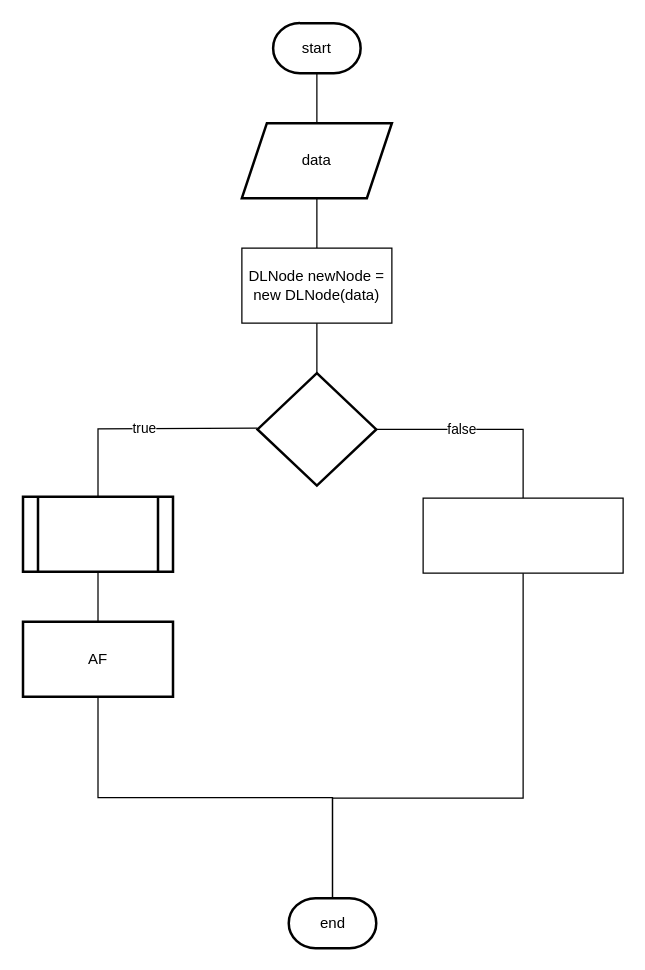
This 645x970 diagram has some shape labels left out. Each missing label, with the box of its shape:
AF = AddFirst(data): (21, 495, 174, 572)
DLNode tail = GetTail() tail.next = newNode newNode.prev = tail: (422, 497, 623, 573)
head == null: (256, 371, 377, 486)
